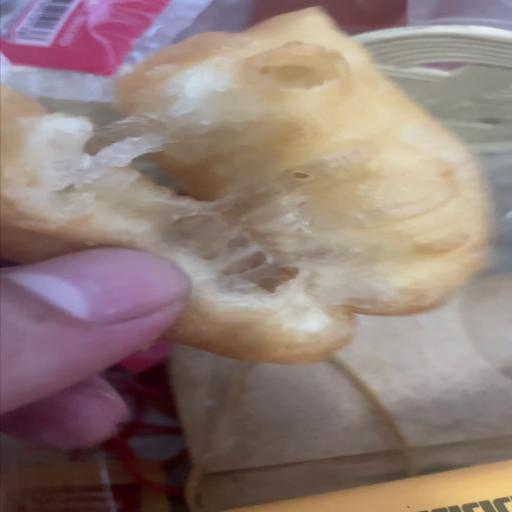street_golden_defect: (1, 12, 492, 387)
